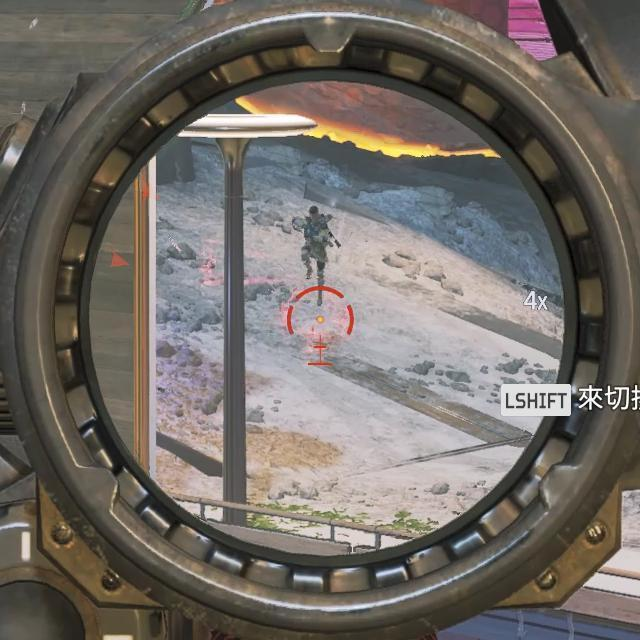avatar: (290, 203, 334, 306)
